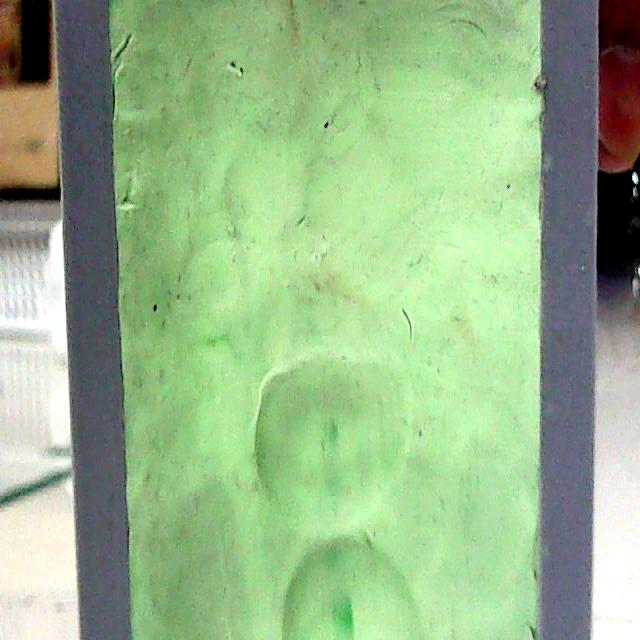block: (49, 0, 609, 628)
